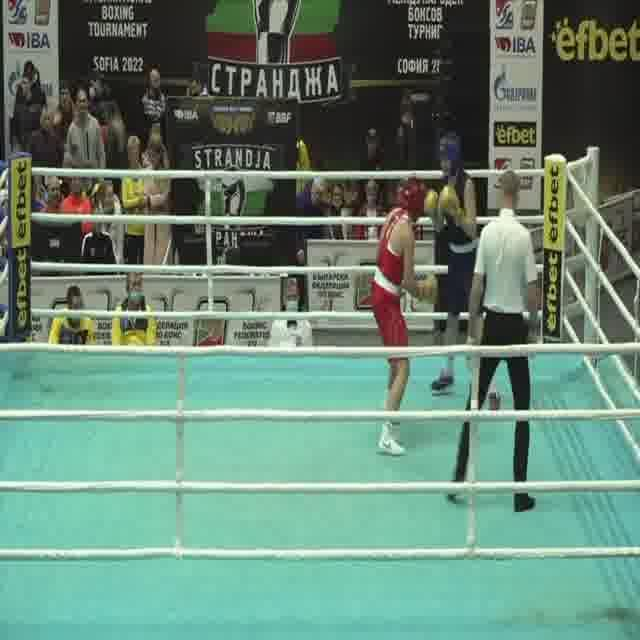blue-player: (421, 129, 502, 411)
red-player: (367, 176, 438, 458)
referee: (443, 168, 537, 517)
